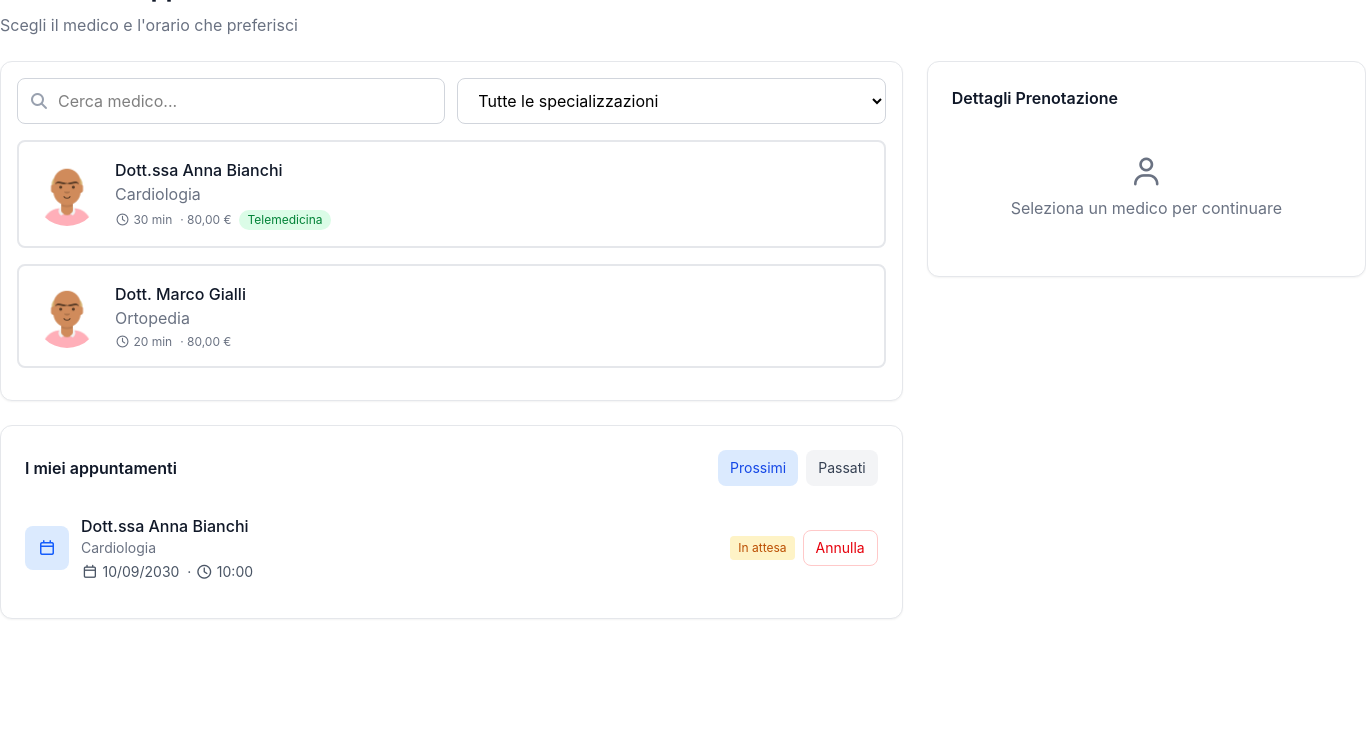
it: Prenotazione visite (paziente) › slot occupato nel frattempo: mostra il motivo e ricarica gli orari
Click the button that starts with "Dott.ssa Anna Bianchi" at (67, 194), box [17,140,886,248]
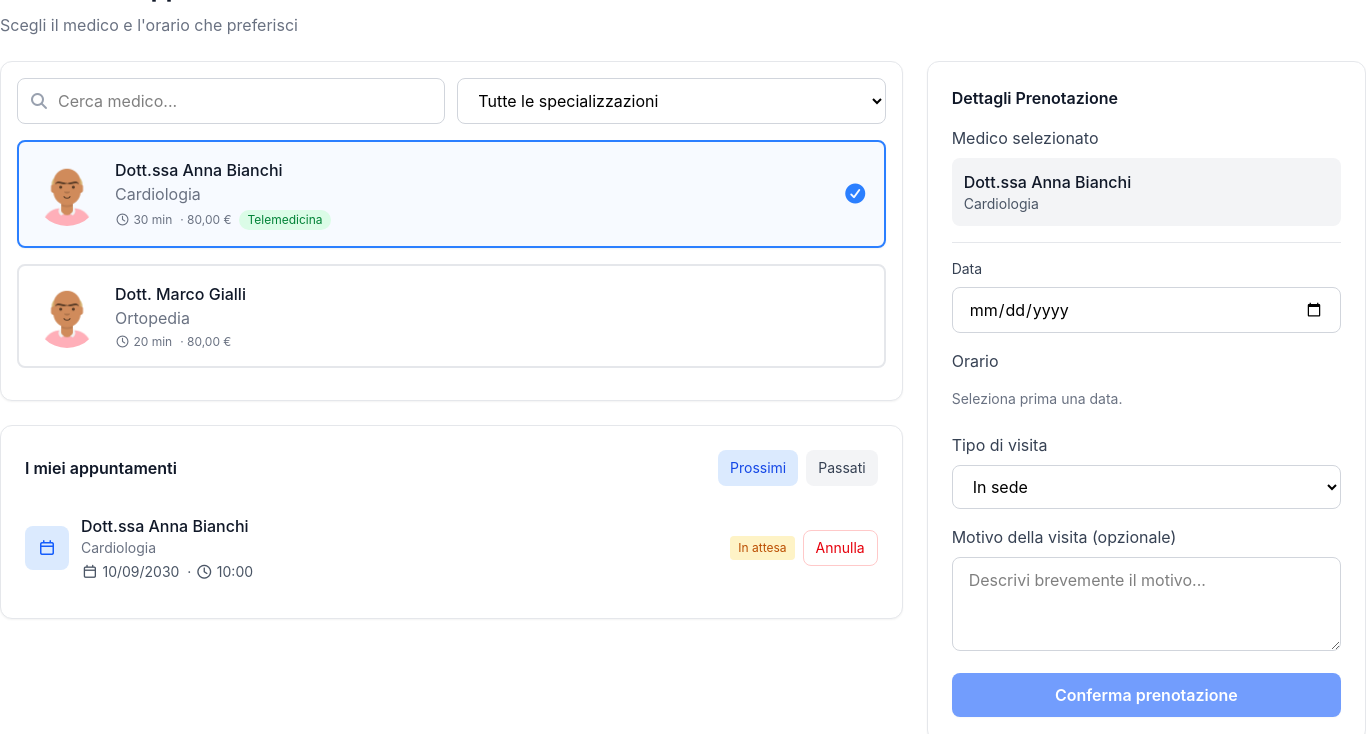
Type "2030-09-10" into the date field with id "booking-date" at (1146, 310), box [952,287,1341,333]
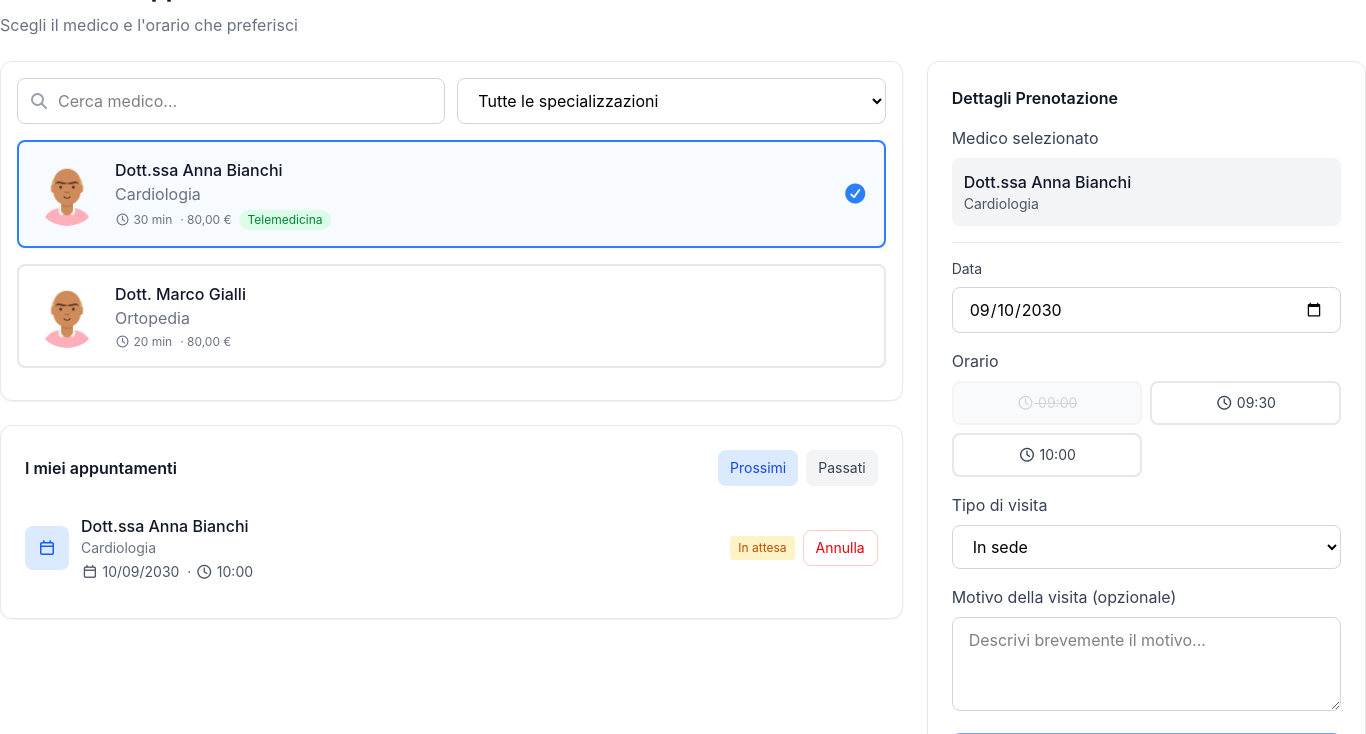
Click the button "09:30" at (1246, 403), box [1150,381,1341,425]
(page scrolled)
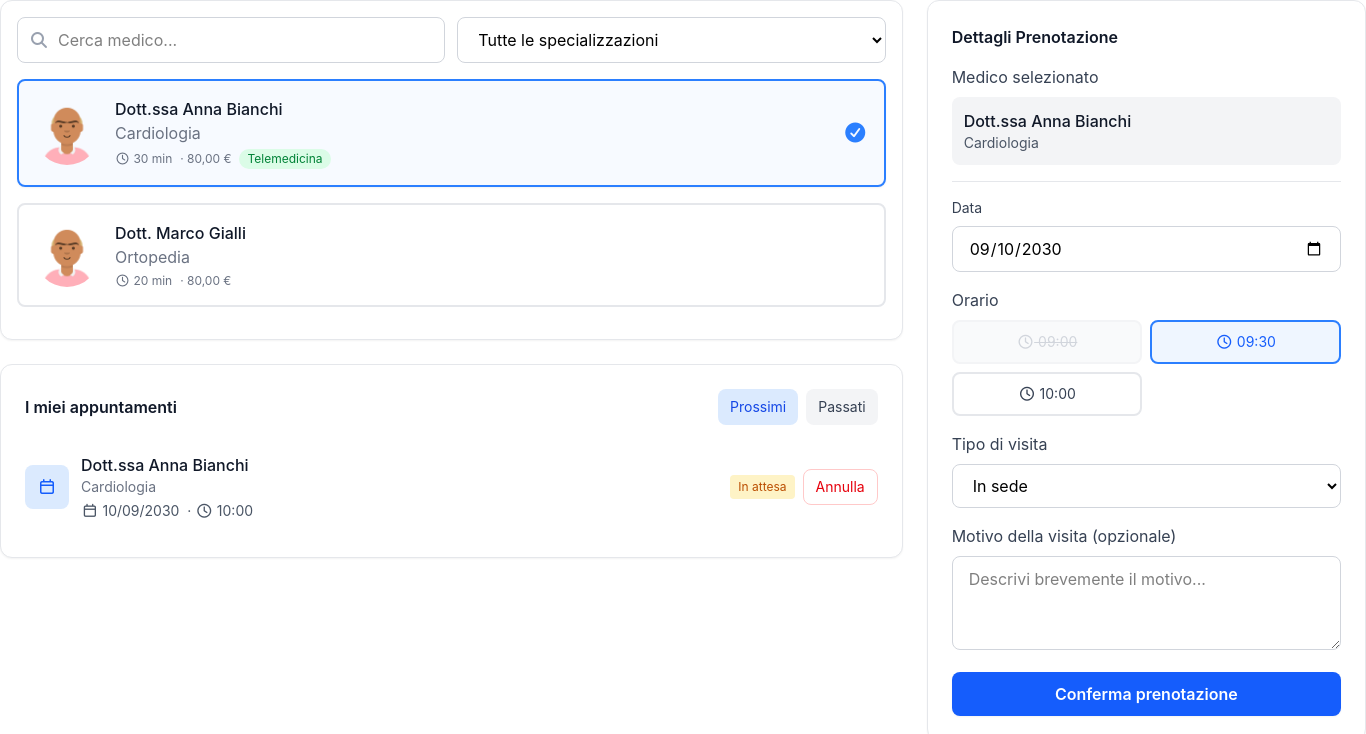
Submit the form, box [952,65,1341,716]
(page scrolled)
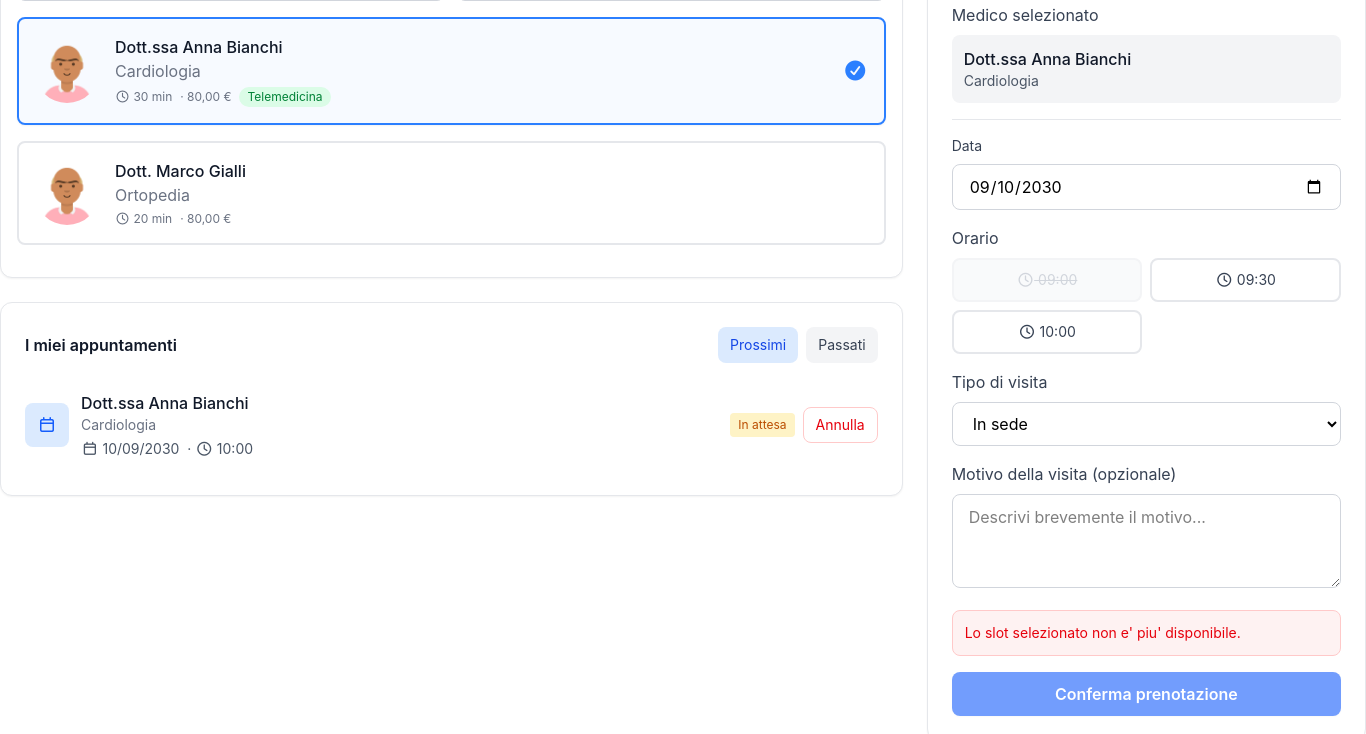
Now the form is shown, box [952,3,1341,716]
Now the text "Lo slot selezionato non e' piu' disponibile." is shown, box [952,610,1341,656]
